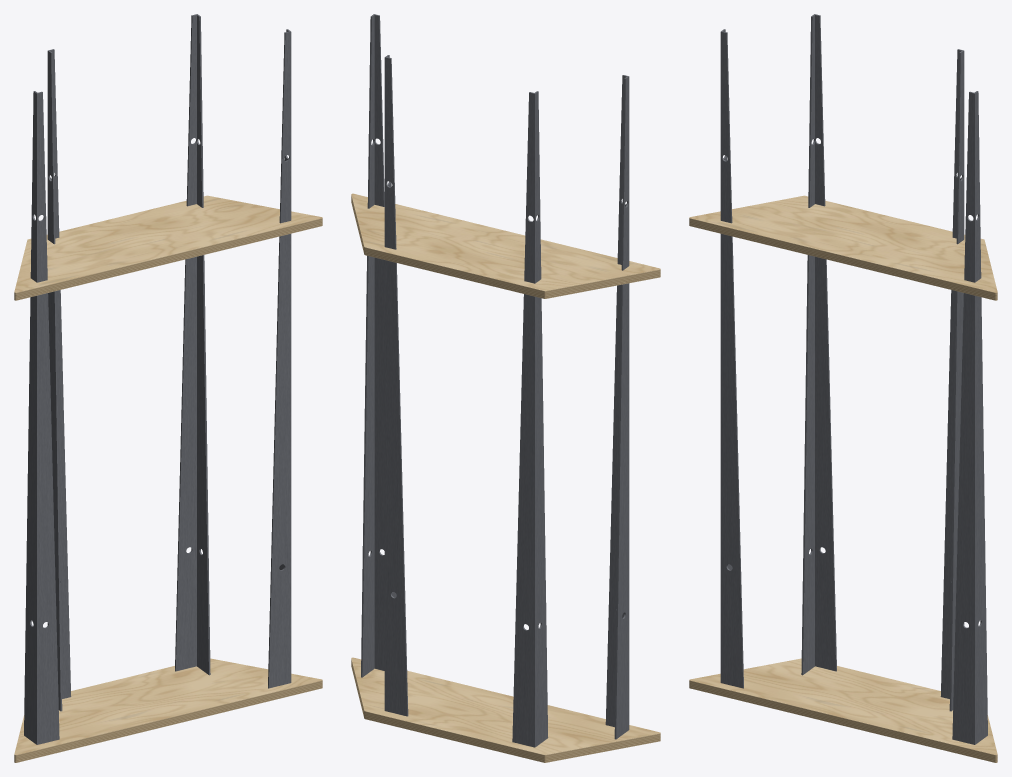
Rendered from mies-superior.glb.
The picture shows the model from 3 angles, left to right: view 1: azimuth 30°, elevation 25°; view 2: azimuth 150°, elevation 25°; view 3: azimuth 330°, elevation 25°; orthographic projection.
Visible parts, largest first — view 1: mies; view 2: mies; view 3: mies.
Boxes of the visible parts, <box> form: mies: <box>14,14,322,762</box>; mies: <box>351,14,660,762</box>; mies: <box>689,14,997,762</box>.
Size of the model in its own units: 1.03 by 2.1 by 0.3.
Materials: 3 (3 with a texture image).
